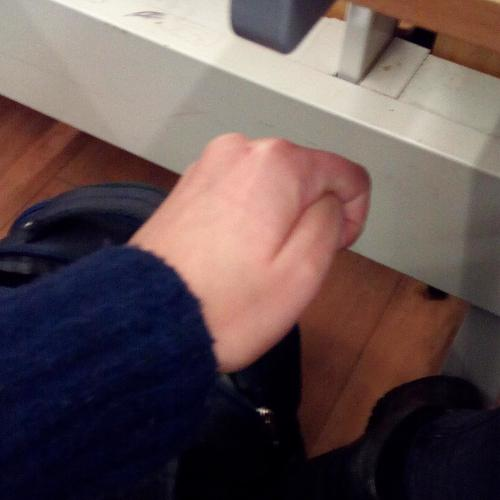rock: (130, 125, 378, 377)
